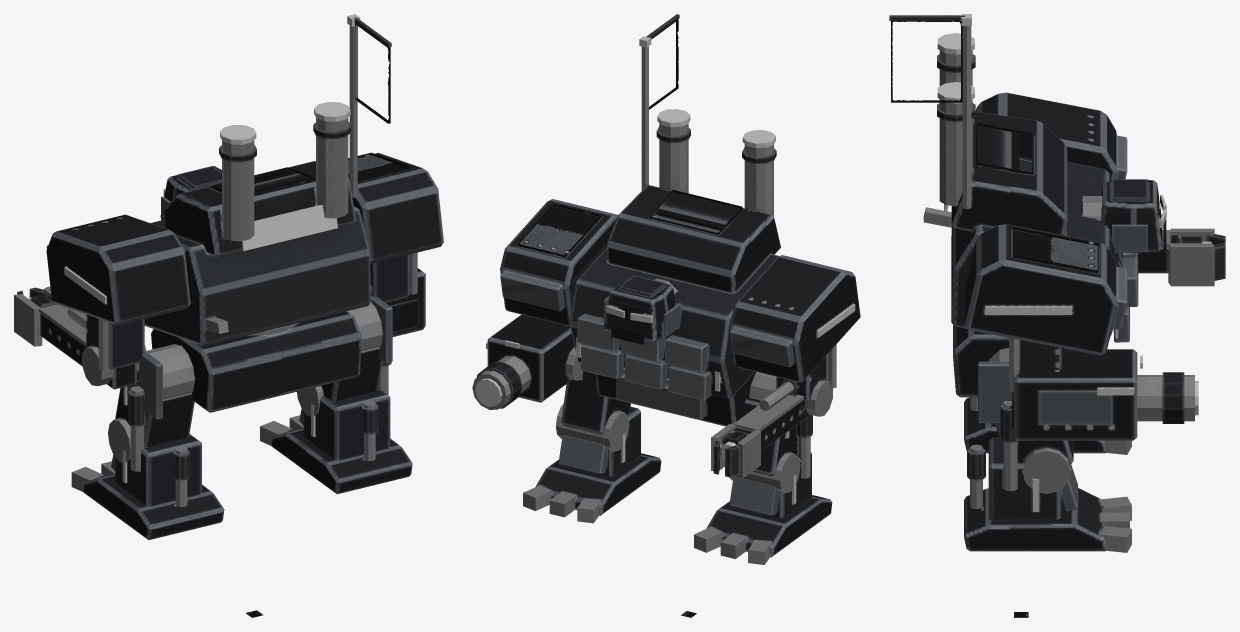
File: chs_warlord.fbx
3 views of the same model, side by side, from view 1: azimuth 30°, elevation 25°; view 2: azimuth 150°, elevation 25°; view 3: azimuth 270°, elevation 25° (orthographic). The views are drawn at different scales.
Visible parts, largest first — view 1: torso_bar, base_bar, footL_bar, footR_bar, shinR_bar, shinL_bar, thighL_bar, nano_bar, torso_glow_power_bar, armL_bar, hipL_bar, thighR_bar (+4 smaller); view 2: torso_bar, forearmR_bar, footR_bar, footL_bar, nano_bar, head_bar, thighR_bar, base_bar, thighL_bar, shinR_bar, shinL_bar, armL_bar (+4 smaller); view 3: torso_bar, forearmR_bar, footR_bar, shinR_bar, head_bar, nano_bar, thighR_bar, base_bar, hipR_bar, footL_bar, armR_bar, torso_glow_power_bar (+2 smaller).
Part boxes in pixels (x1=…): torso_bar: x1=46, y1=17, x2=443, y2=345; base_bar: x1=151, y1=311, x2=361, y2=412; footL_bar: x1=71, y1=461, x2=224, y2=540; footR_bar: x1=260, y1=415, x2=412, y2=494; shinR_bar: x1=299, y1=389, x2=390, y2=460; shinL_bar: x1=111, y1=434, x2=201, y2=506; thighL_bar: x1=108, y1=386, x2=194, y2=471; nano_bar: x1=14, y1=286, x2=136, y2=389; torso_glow_power_bar: x1=220, y1=102, x2=350, y2=250; armL_bar: x1=82, y1=314, x2=147, y2=386; hipL_bar: x1=123, y1=344, x2=194, y2=419; thighR_bar: x1=297, y1=347, x2=391, y2=416; torso_bar: x1=500, y1=14, x2=860, y2=400; forearmR_bar: x1=472, y1=314, x2=583, y2=409; footR_bar: x1=523, y1=453, x2=661, y2=523; footL_bar: x1=694, y1=495, x2=832, y2=564; nano_bar: x1=711, y1=379, x2=810, y2=478; head_bar: x1=603, y1=275, x2=681, y2=344; thighR_bar: x1=555, y1=371, x2=630, y2=451; base_bar: x1=596, y1=371, x2=756, y2=426; thighL_bar: x1=729, y1=398, x2=812, y2=493; shinR_bar: x1=558, y1=406, x2=640, y2=476; shinL_bar: x1=729, y1=452, x2=811, y2=517; armL_bar: x1=772, y1=344, x2=836, y2=416; torso_bar: x1=889, y1=15, x2=1138, y2=355; forearmR_bar: x1=1012, y1=349, x2=1194, y2=440; footR_bar: x1=964, y1=488, x2=1131, y2=552; shinR_bar: x1=967, y1=437, x2=1077, y2=520; head_bar: x1=1083, y1=179, x2=1166, y2=253; nano_bar: x1=1138, y1=228, x2=1225, y2=286; thighR_bar: x1=995, y1=401, x2=1073, y2=493; base_bar: x1=953, y1=325, x2=1067, y2=397; hipR_bar: x1=978, y1=347, x2=1011, y2=423; footL_bar: x1=964, y1=397, x2=1131, y2=454; armR_bar: x1=1009, y1=338, x2=1061, y2=392; torso_glow_power_bar: x1=937, y1=33, x2=1111, y2=335.
Bounding box in the file's own units: 574 × 971 × 465.
Materials: 2 (2 with a texture image).
